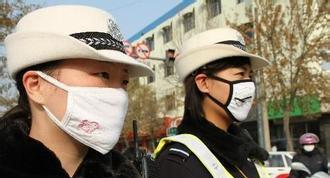OK: (52, 67, 130, 145), (208, 70, 255, 121)
